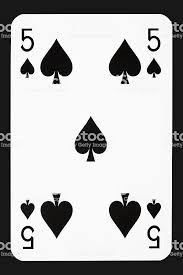five of spades: (11, 13, 171, 260)
